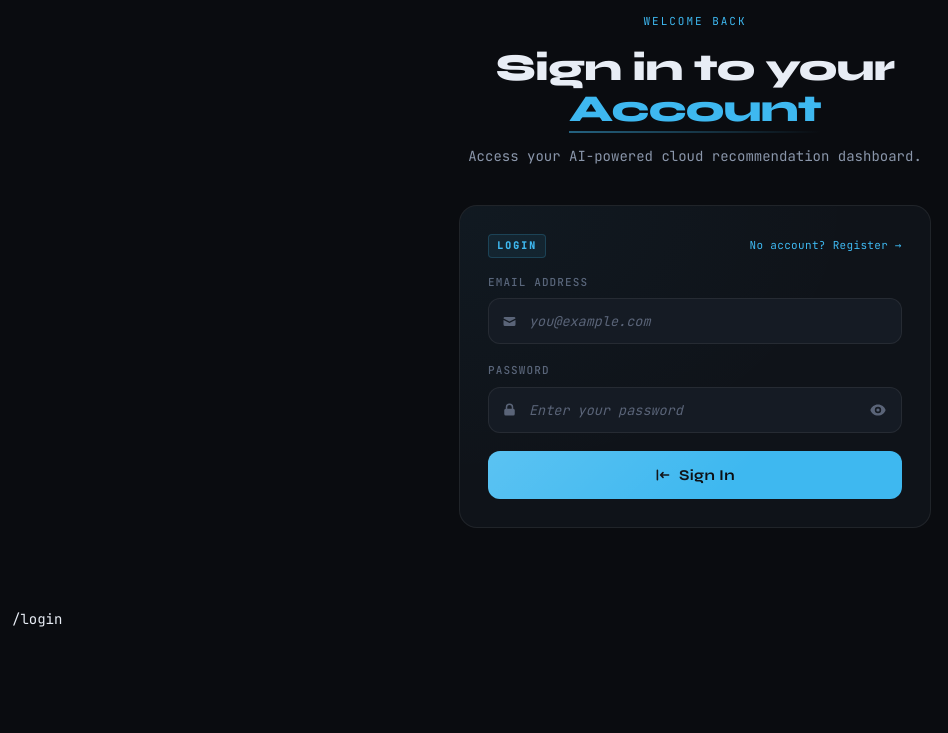
it: shows the server's error on bad credentials
The image size is (948, 733).
In the field labelled "Email Address": x=695, y=321 488,298 -> 902,344, type "alice@example.com"
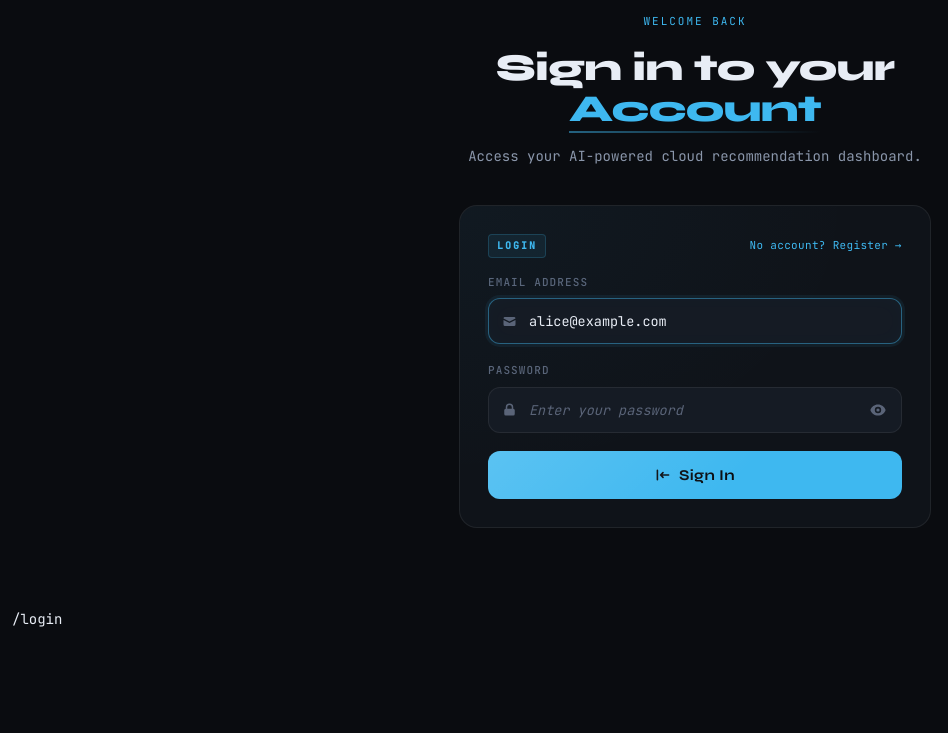
In the password field labelled "Password": x=695, y=410 488,387 -> 902,433, type "wrong"
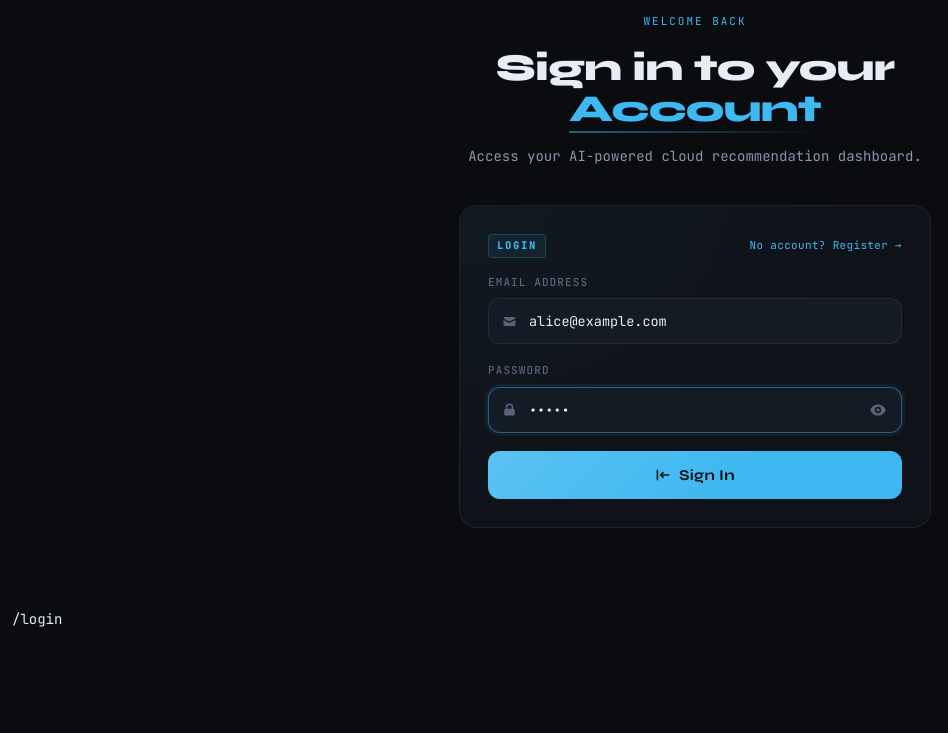
Click the button "Sign In": x=695, y=475 488,451 -> 902,499
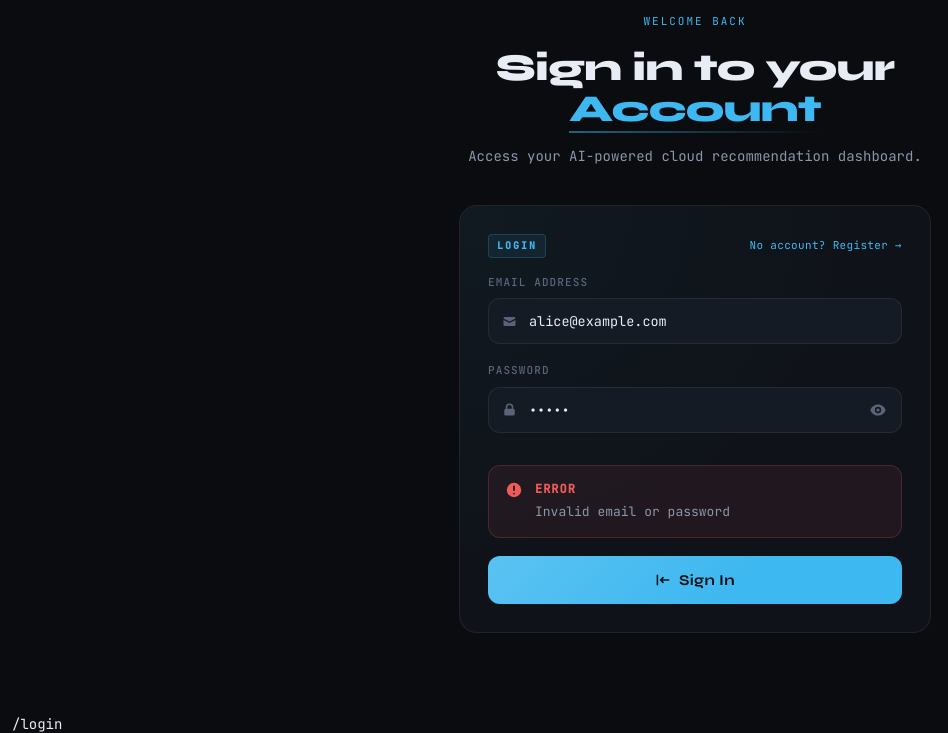
Expected: the text "Invalid email or password" is shown, 535,502 -> 730,523
